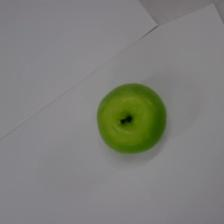green: (97, 83, 167, 154)
